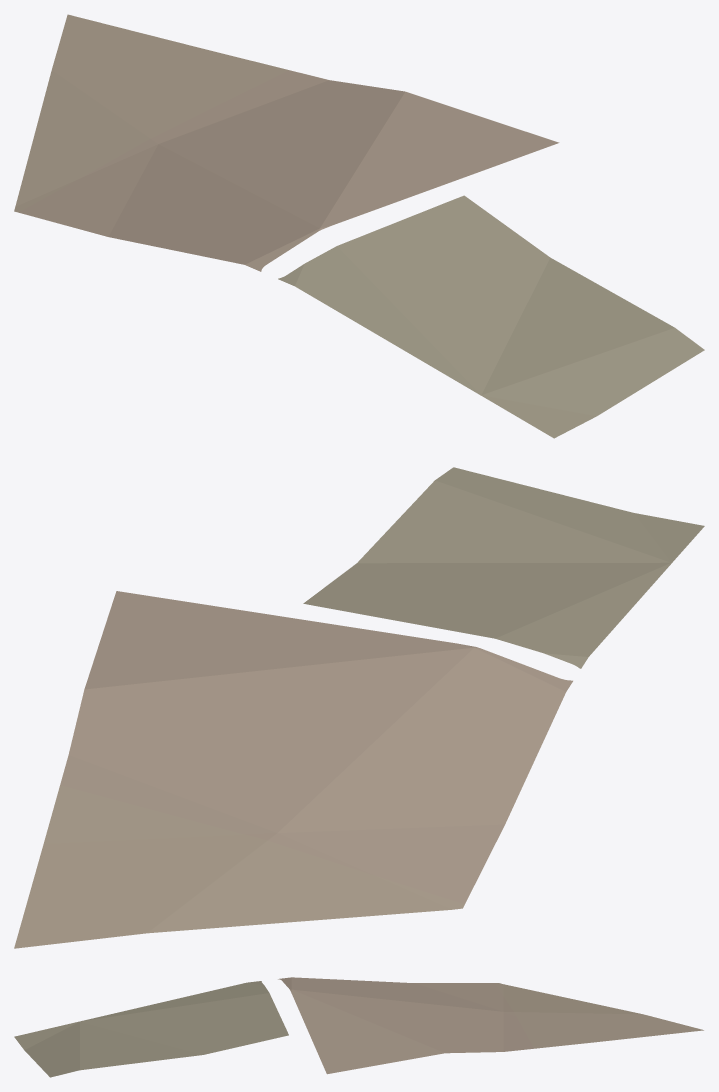
The model's file is farm_-39_-31_soil.glb.
3 renders of one model, top to bottom at view 1: azimuth 30°, elevation 25°; view 2: azimuth 150°, elevation 25°; view 3: azimuth 270°, elevation 25°, orthographic. The views are drawn at different scales.
Visible parts, largest first — view 1: geometry_0; view 2: geometry_0; view 3: geometry_0.
Part boxes in pixels (x1,y1,x2,y2): geometry_0: [14, 14, 704, 438]; geometry_0: [14, 467, 704, 948]; geometry_0: [14, 977, 703, 1077].
Size of the model in its own units: 119 by 17.52 by 261.
